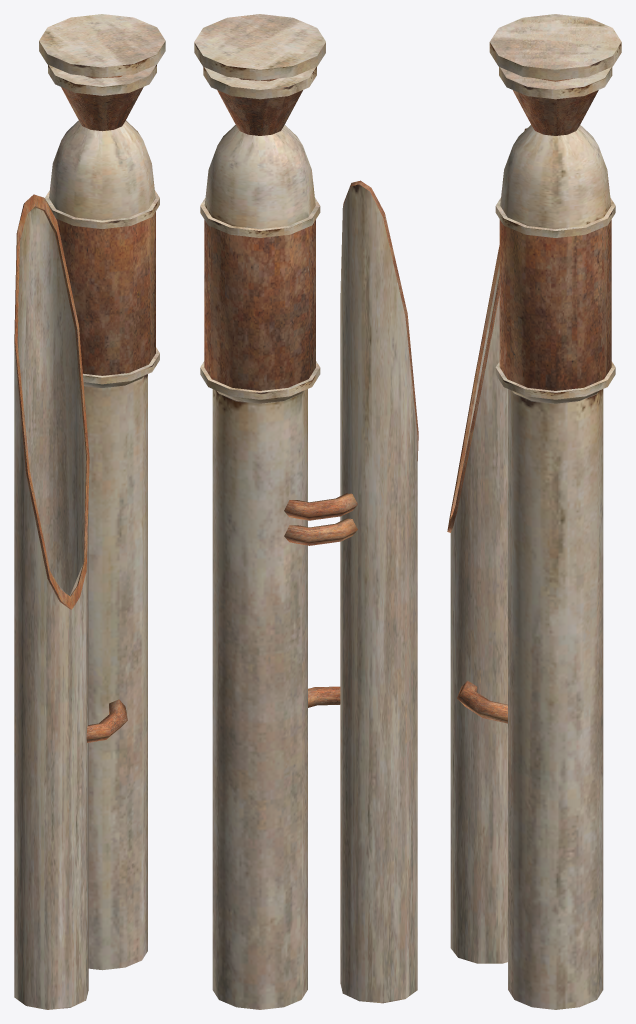
The model's file is thm_tato_debris_s04_l0.fbx.
3 views of the same model, side by side, from view 1: azimuth 30°, elevation 25°; view 2: azimuth 150°, elevation 25°; view 3: azimuth 270°, elevation 25° (orthographic). The views are drawn at different scales.
Visible parts, largest first — view 1: mesh_node; view 2: mesh_node; view 3: mesh_node.
Boxes of the visible parts, x1,y1,x2,y2 form: mesh_node: [14, 14, 165, 1009]; mesh_node: [194, 14, 418, 1009]; mesh_node: [447, 14, 621, 1009].
Bounding box in the file's own units: 1.03 × 5.28 × 0.8798.
2 materials, 2 textured.
